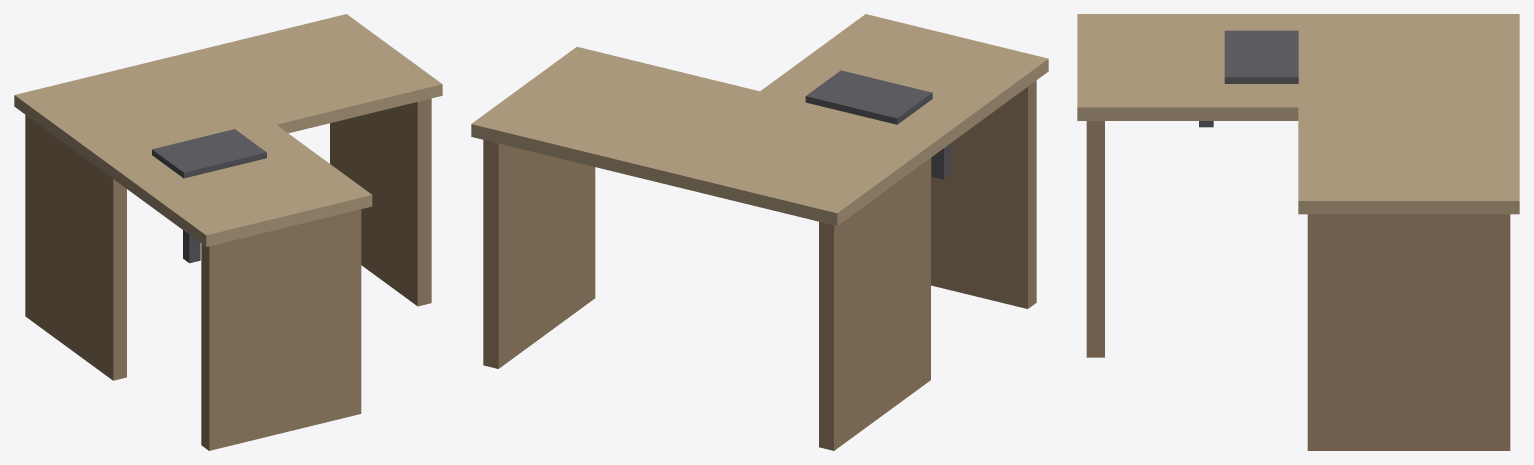
File: office_mesa_l.glb
3 renders of one model, left to right at view 1: azimuth 30°, elevation 25°; view 2: azimuth 150°, elevation 25°; view 3: azimuth 270°, elevation 25°, orthographic. The views are drawn at different scales.
Visible parts, largest first — view 1: OFFICE_MESA_L_v01; view 2: OFFICE_MESA_L_v01; view 3: OFFICE_MESA_L_v01.
Part boxes in pixels (left/top/right/bottom): OFFICE_MESA_L_v01: left=14, top=14, right=442, bottom=450; OFFICE_MESA_L_v01: left=471, top=14, right=1048, bottom=450; OFFICE_MESA_L_v01: left=1077, top=14, right=1519, bottom=450.
Size of the model in its own units: 1.2 by 0.78 by 1.2.
